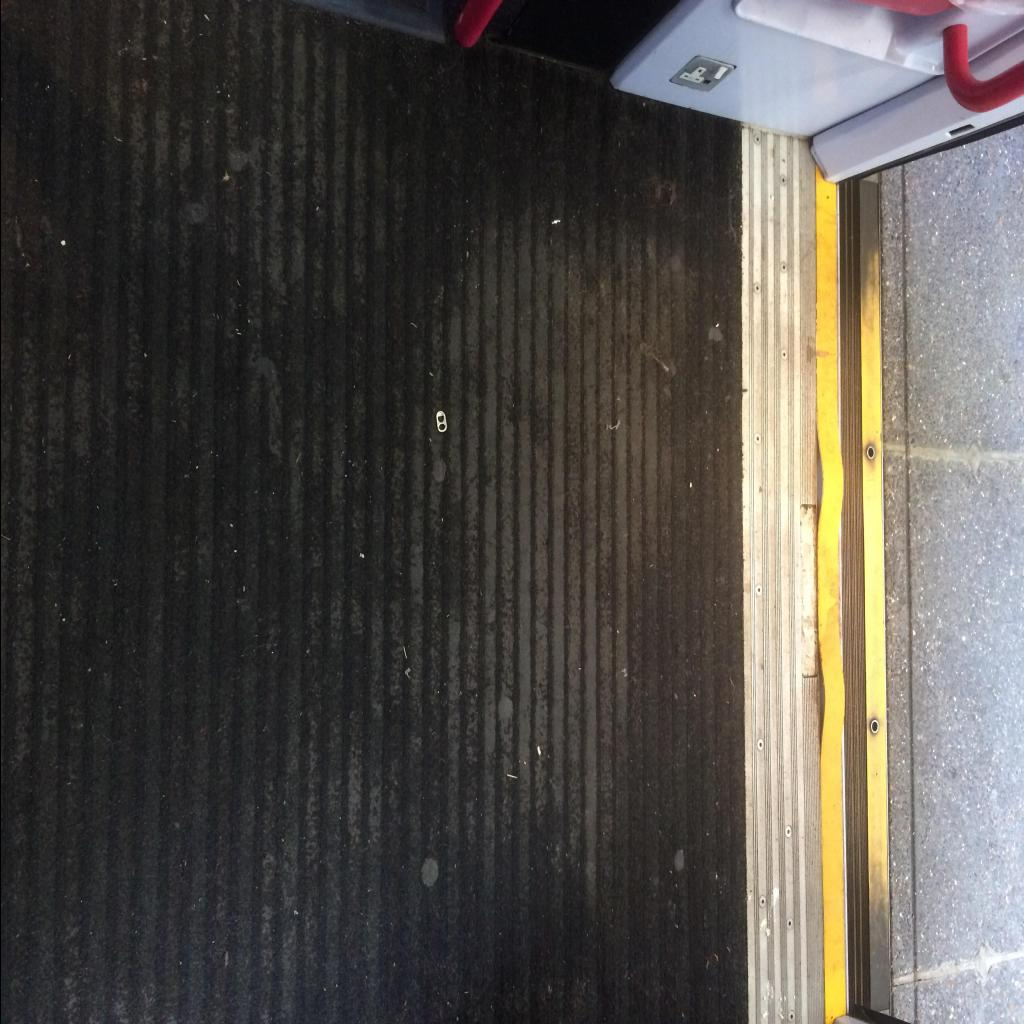Pop tab: (435, 410, 446, 432)
